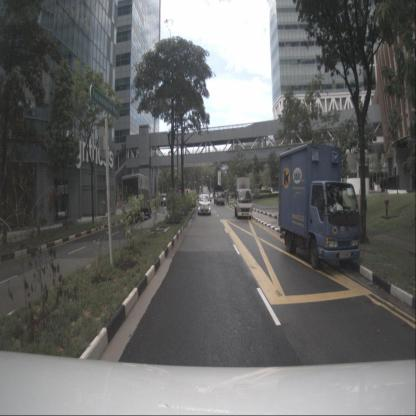human-pedestrian-adult: (257, 188, 260, 198), (227, 191, 229, 205), (226, 191, 228, 204), (255, 188, 257, 198)
vehicle-car: (198, 195, 211, 215), (160, 193, 168, 206)
vehicle-truck: (278, 143, 360, 268), (122, 174, 152, 221), (234, 177, 252, 220), (214, 184, 223, 205), (216, 191, 224, 205)
